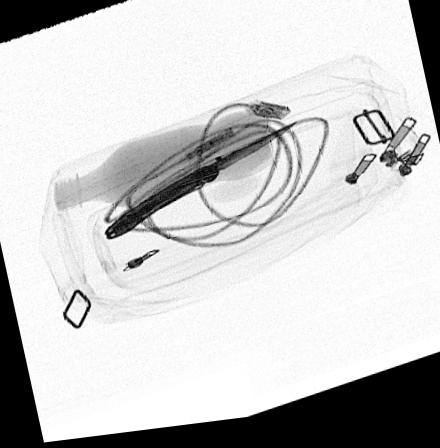Knife: (100, 125, 300, 243)
